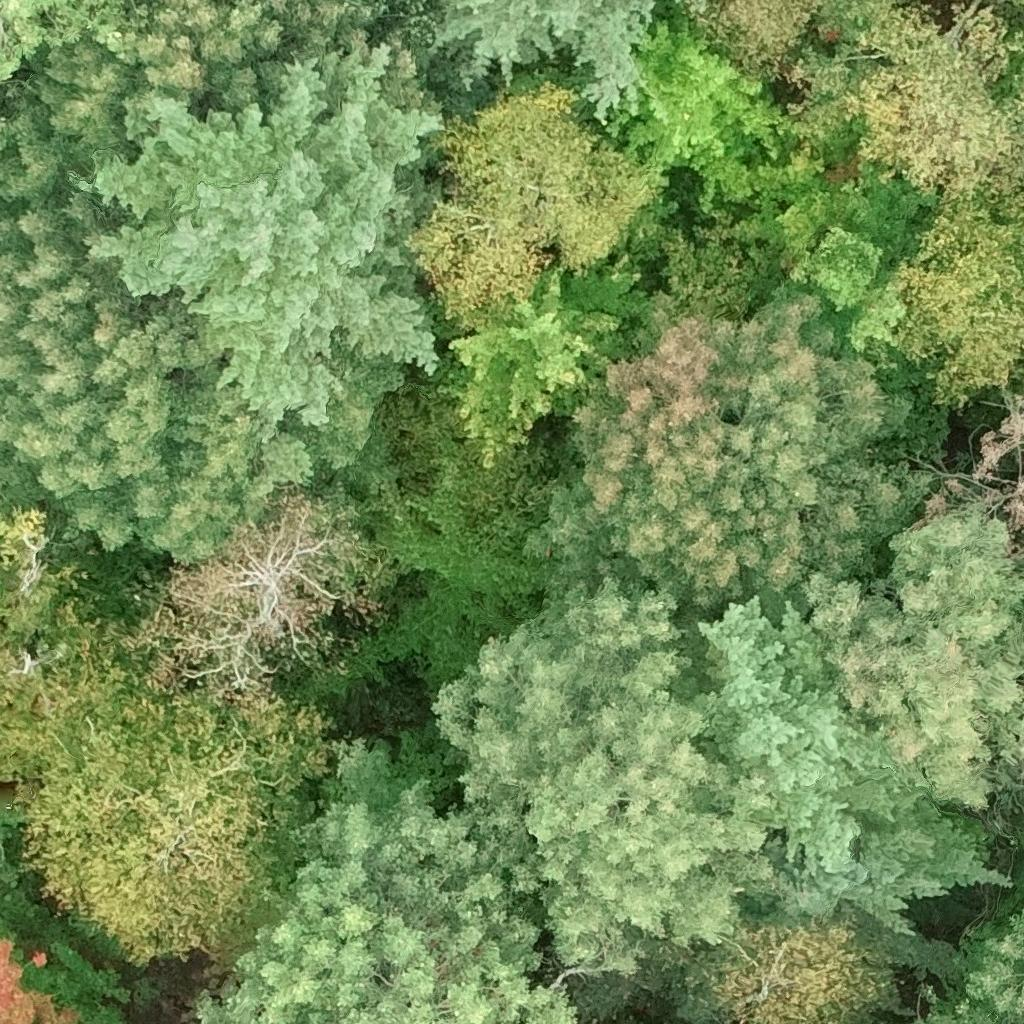crown: (0, 0, 435, 555), (432, 573, 771, 973), (92, 50, 449, 429), (529, 291, 934, 625), (0, 611, 335, 956), (192, 738, 578, 1023), (699, 596, 1011, 934), (804, 508, 1023, 813), (124, 491, 389, 721), (404, 87, 658, 322), (733, 147, 949, 366), (434, 269, 648, 467), (842, 4, 1023, 202), (600, 21, 778, 208), (890, 193, 1023, 407), (430, 0, 654, 119), (683, 913, 898, 1023), (0, 0, 133, 130), (933, 903, 1023, 1023), (706, 0, 834, 76), (0, 935, 79, 1023), (991, 51, 1023, 109), (985, 0, 1023, 44), (701, 0, 710, 5), (1022, 123, 1023, 127)
